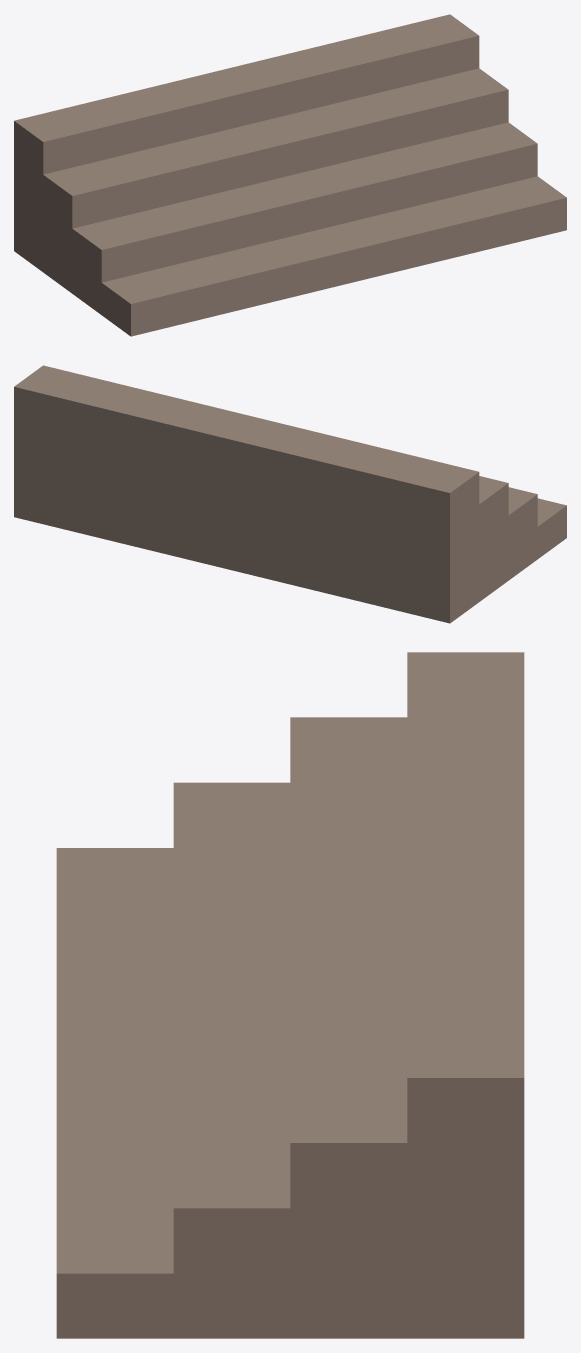
Rendered from Stairs.fbx.
3 renders of one model, top to bottom at view 1: azimuth 30°, elevation 25°; view 2: azimuth 150°, elevation 25°; view 3: azimuth 270°, elevation 25°, orthographic. The views are drawn at different scales.
Visible parts, largest first — view 1: Stairs; view 2: Stairs; view 3: Stairs.
Part boxes in pixels (x1,y1,x2,y2): Stairs: (14,14,566,336); Stairs: (14,365,566,623); Stairs: (56,652,524,1338).
Bounding box in the file's own units: 350 × 100 × 163.
Materials: 1 (1 with a texture image).
